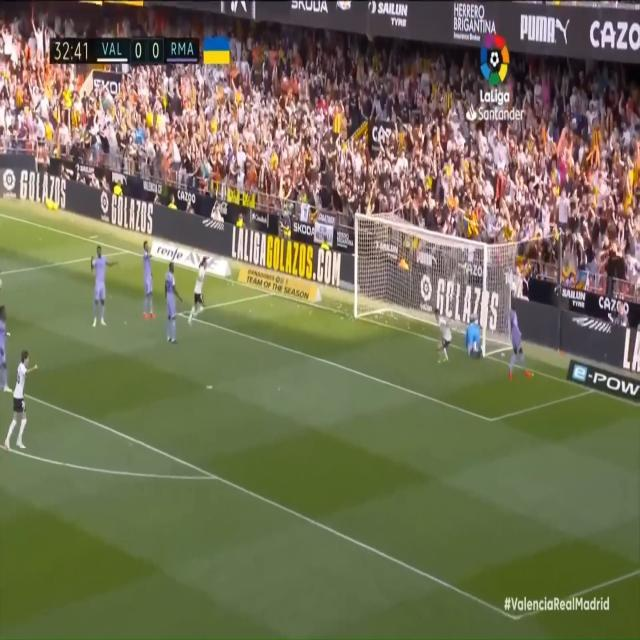goalkeeper: (462, 312, 484, 364)
player: (7, 350, 38, 475), (159, 259, 187, 364), (132, 230, 161, 330), (85, 238, 114, 334), (506, 305, 532, 387), (426, 302, 458, 364), (193, 254, 215, 328), (1, 301, 12, 409)
